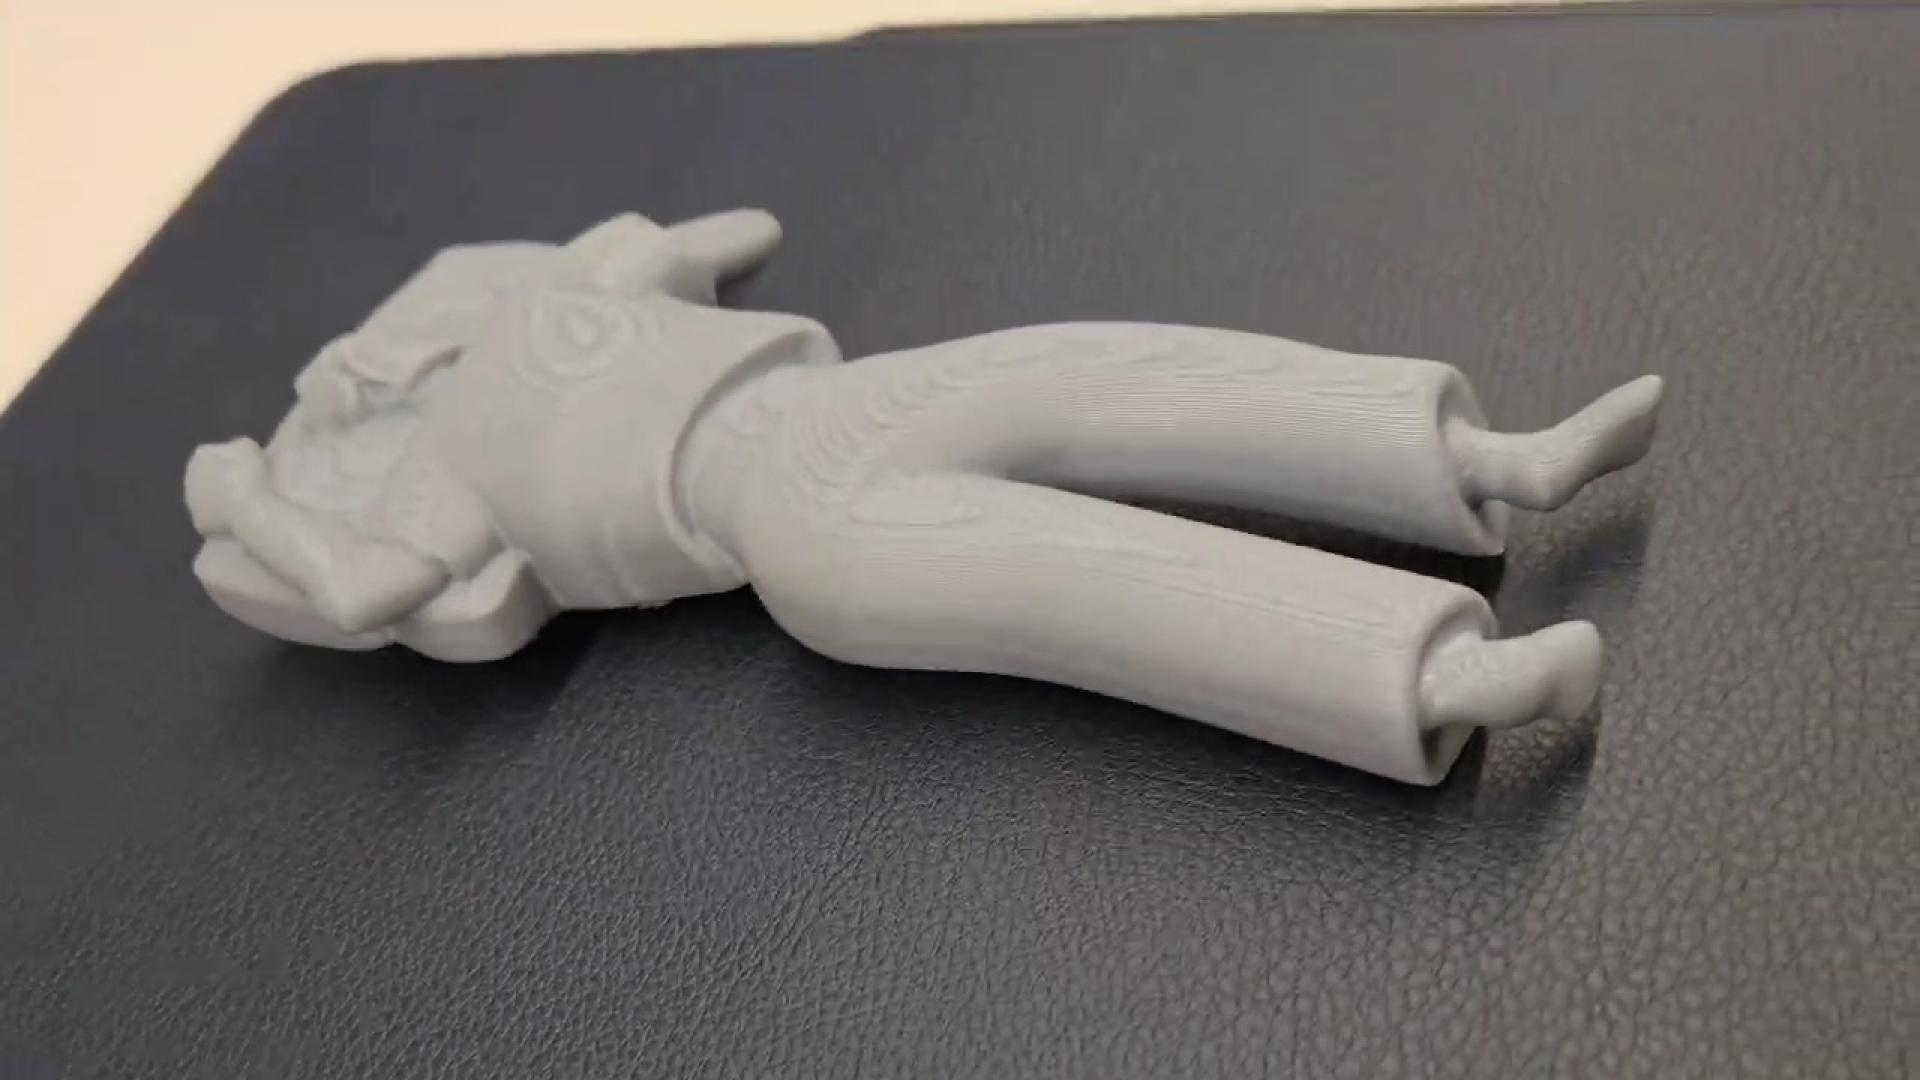Bad-style: (167, 198, 1692, 816)
